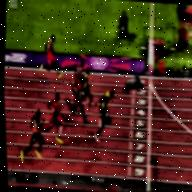boar: (121, 69, 148, 98)
